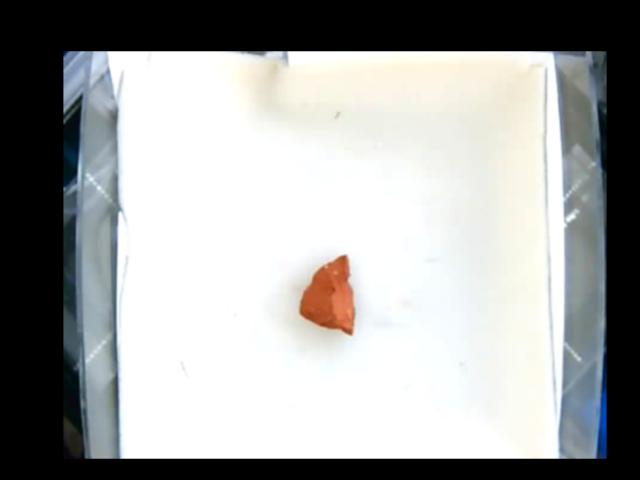Brisk: (296, 253, 354, 337)
